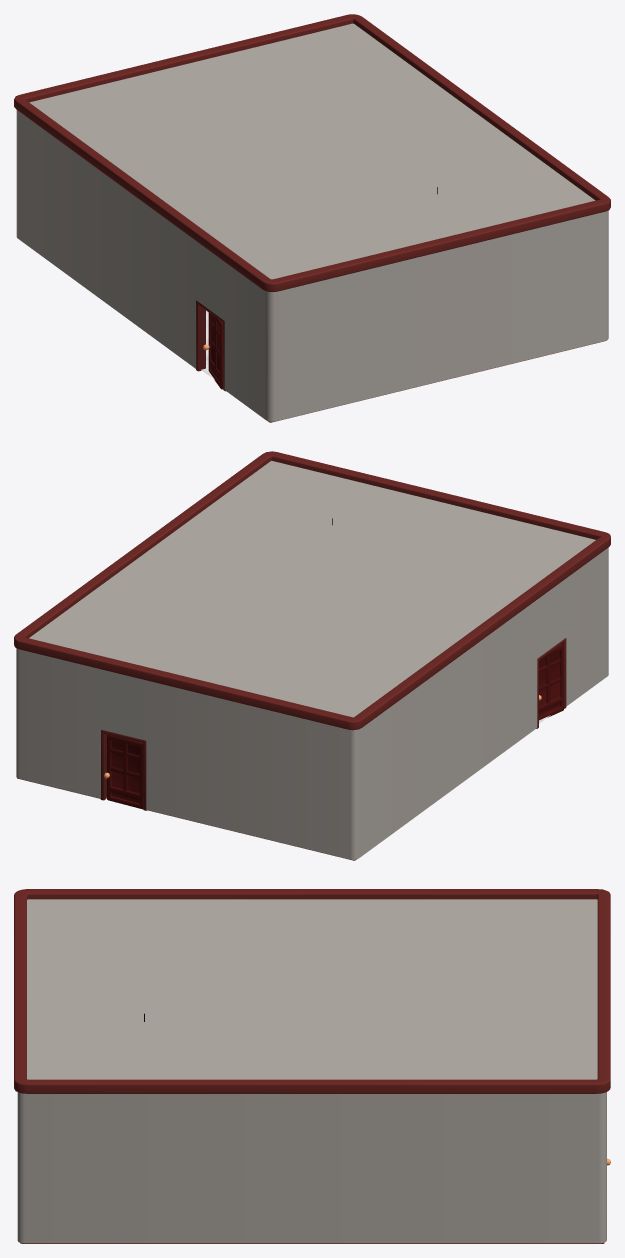
Rendered from Room_export.fbx.
The picture shows the model from 3 angles, top to bottom: view 1: azimuth 30°, elevation 25°; view 2: azimuth 150°, elevation 25°; view 3: azimuth 270°, elevation 25°; orthographic projection. The views are drawn at different scales.
Parts seen in each view (by area): view 1: SM_room_04__1_, SM_door_02; view 2: SM_room_04__1_, SM_door_02__1_, SM_door_02; view 3: SM_room_04__1_.
Part boxes in pixels (x1,y1,x2,y2): SM_room_04__1_: [14, 14, 610, 422]; SM_door_02: [203, 312, 222, 389]; SM_room_04__1_: [14, 451, 610, 860]; SM_door_02__1_: [104, 734, 143, 809]; SM_door_02: [539, 644, 563, 720]; SM_room_04__1_: [14, 889, 610, 1243].
Bounding box in the file's own units: 1321 × 520 × 1705.
